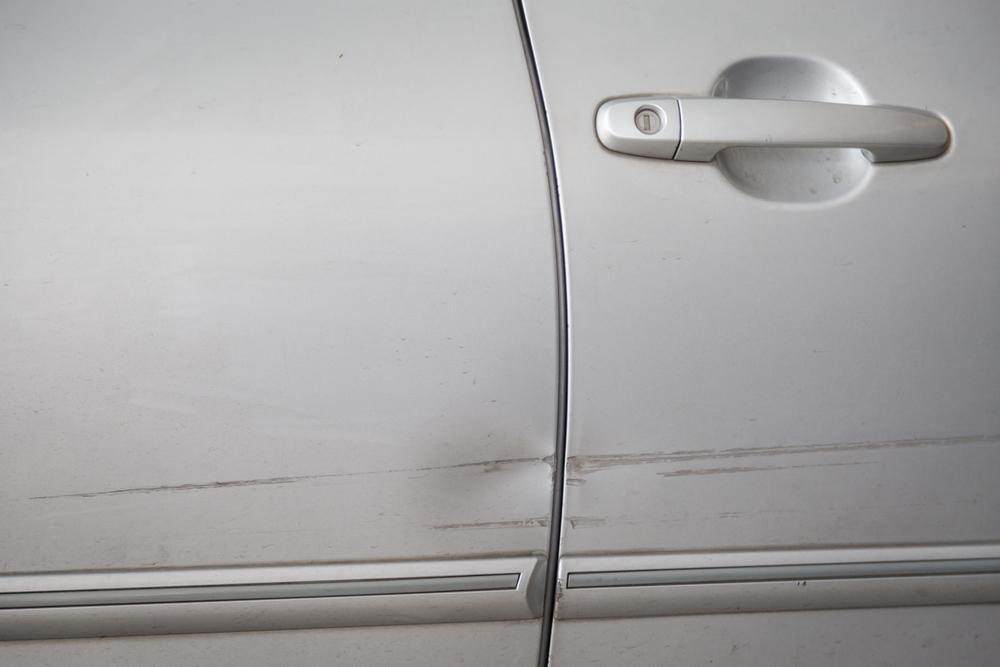dent: (397, 431, 556, 555)
scratch: (559, 430, 1000, 537), (32, 470, 329, 506)
